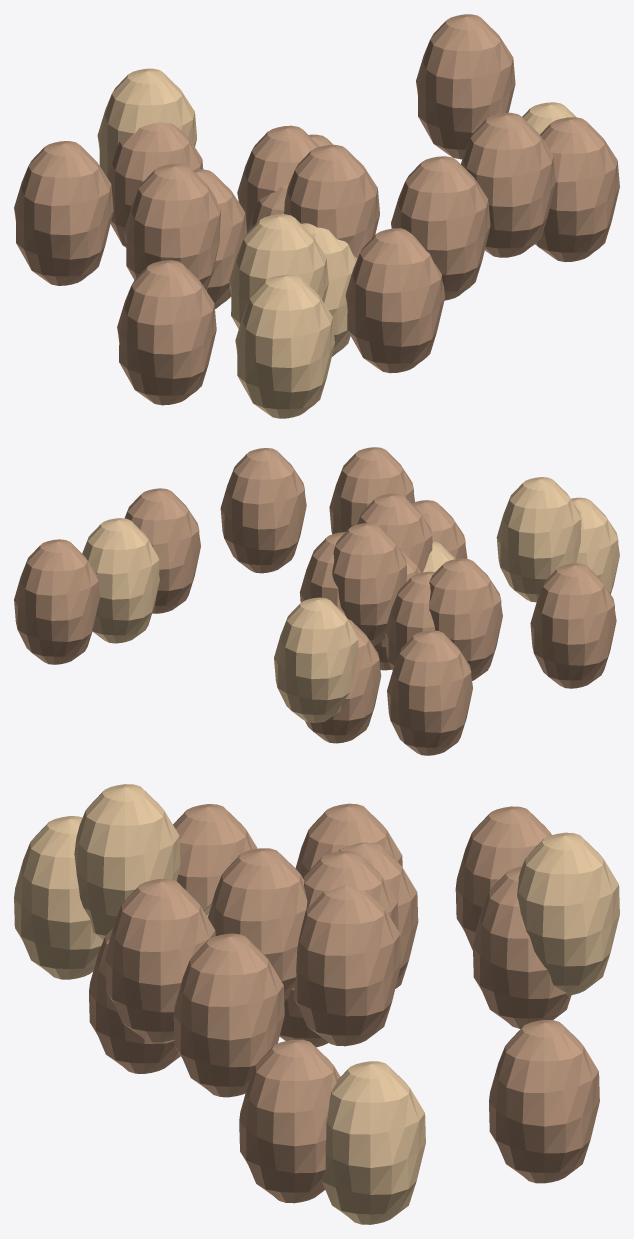
Rendered from nutmeg.glb.
3 renders of one model, top to bottom at view 1: azimuth 30°, elevation 25°; view 2: azimuth 150°, elevation 25°; view 3: azimuth 270°, elevation 25°, orthographic. The views are drawn at different scales.
Parts seen in each view (by area): view 1: nutmeg; view 2: nutmeg; view 3: nutmeg.
Boxes of the visible parts, x1,y1,x2,y2 form: nutmeg: [14, 14, 619, 418]; nutmeg: [14, 447, 619, 755]; nutmeg: [14, 784, 619, 1224].
Bounding box in the file's own units: 1.05 × 0.3777 × 0.9058.
